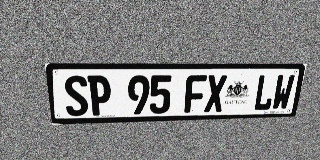5: (150, 75, 172, 114)
9: (128, 75, 150, 114)
F: (184, 75, 207, 113)
L: (253, 75, 277, 111)
P: (87, 75, 111, 116)
S: (63, 76, 89, 116)
W: (271, 74, 295, 110)
X: (204, 75, 227, 112)
